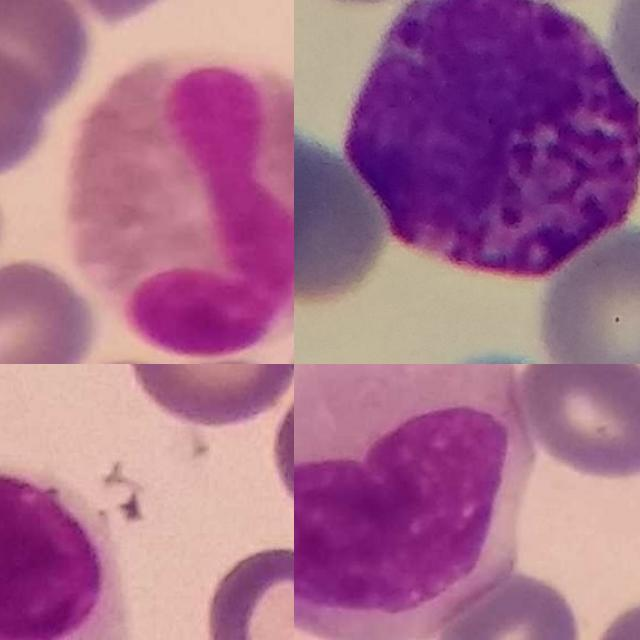Basophil: (342, 0, 640, 283)
Eosinophil: (67, 46, 294, 356)
Monocyte: (294, 364, 541, 640), (0, 469, 129, 640)
